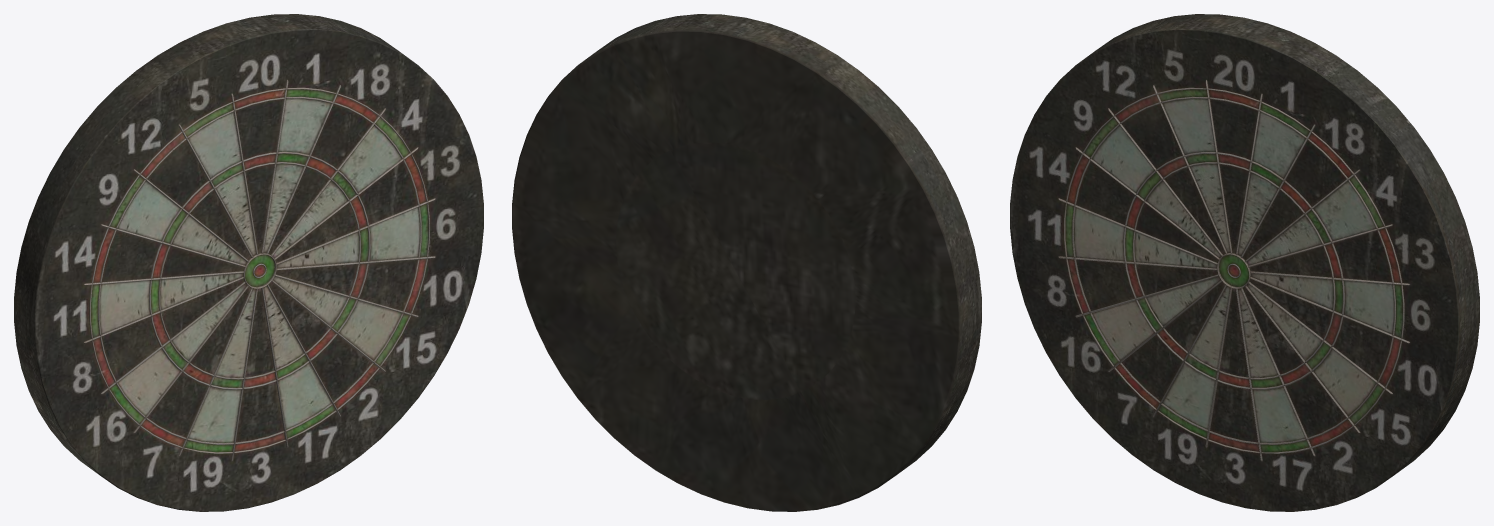
File: dartboard.glb
3 renders of one model, left to right at view 1: azimuth 30°, elevation 25°; view 2: azimuth 150°, elevation 25°; view 3: azimuth 330°, elevation 25°, orthographic.
Parts seen in each view (by area): view 1: dartboard; view 2: dartboard; view 3: dartboard.
Part boxes in pixels (x1,y1,x2,y2): dartboard: (14, 14, 483, 511); dartboard: (512, 14, 981, 511); dartboard: (1010, 14, 1479, 511).
Bounding box in the file's own units: 0.4507 × 0.4507 × 0.0398.
Materials: 1 (1 with a texture image).
